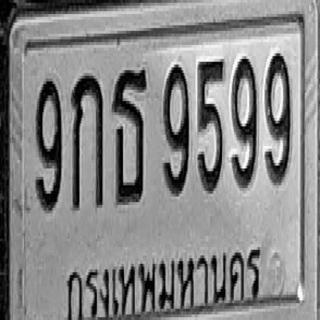A01: (71, 72, 103, 209)
A24: (111, 66, 147, 204)
N05: (198, 58, 225, 192)
N09: (231, 56, 257, 188), (265, 52, 291, 184), (163, 63, 189, 195), (36, 78, 61, 210)
P04: (61, 249, 265, 320)
